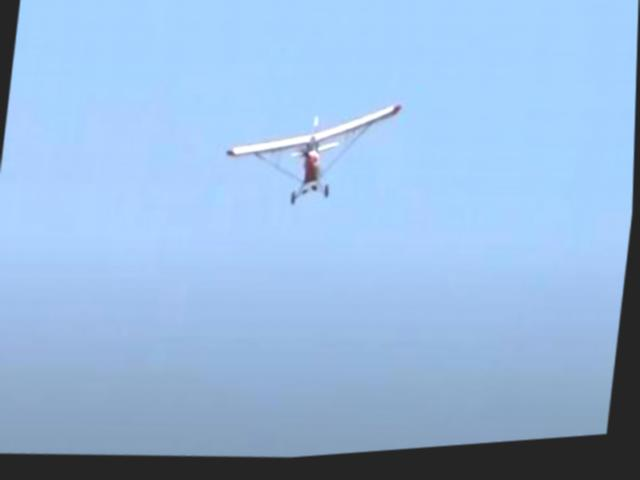uav: (216, 79, 409, 221)
